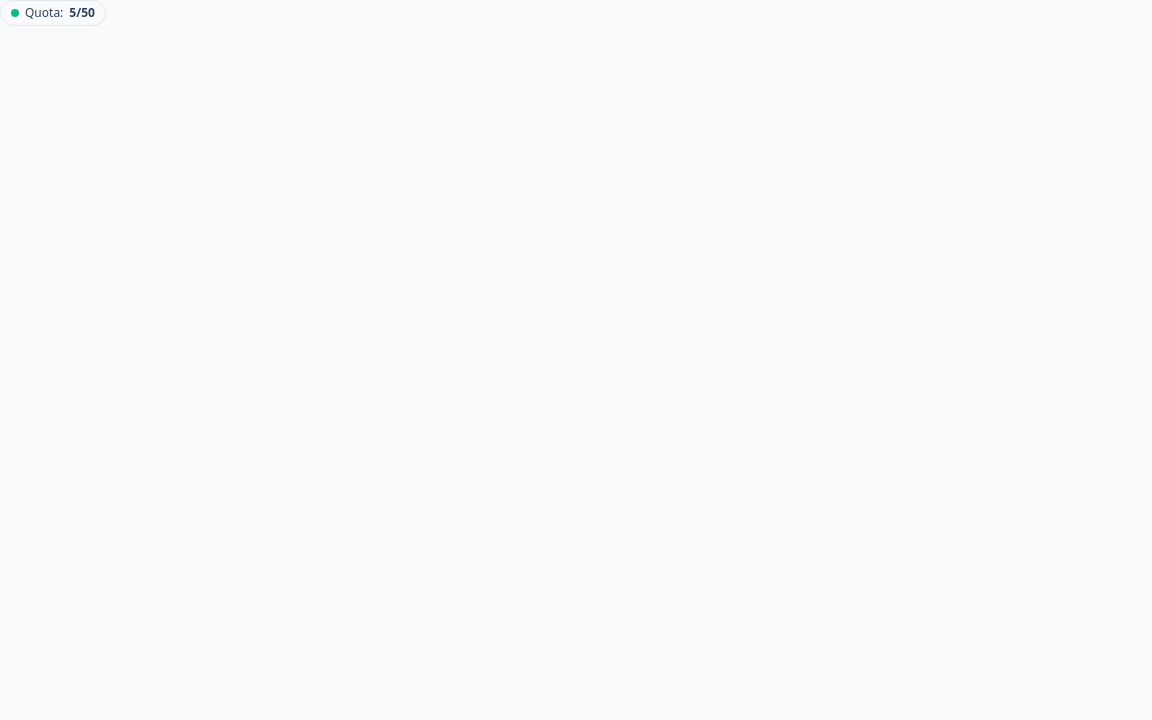
Test: QuotaMeter Component › renders compact trigger with daily usage and opens popover on click
expect the text "5/50" is shown: met, box [69, 5, 95, 21]
What coordinates should you click on to do the following:
click the button with aria-label "llm quota: 5 of 50 daily requests used"
I would click on:
 (53, 13)
Its box is [0, 0, 106, 26].
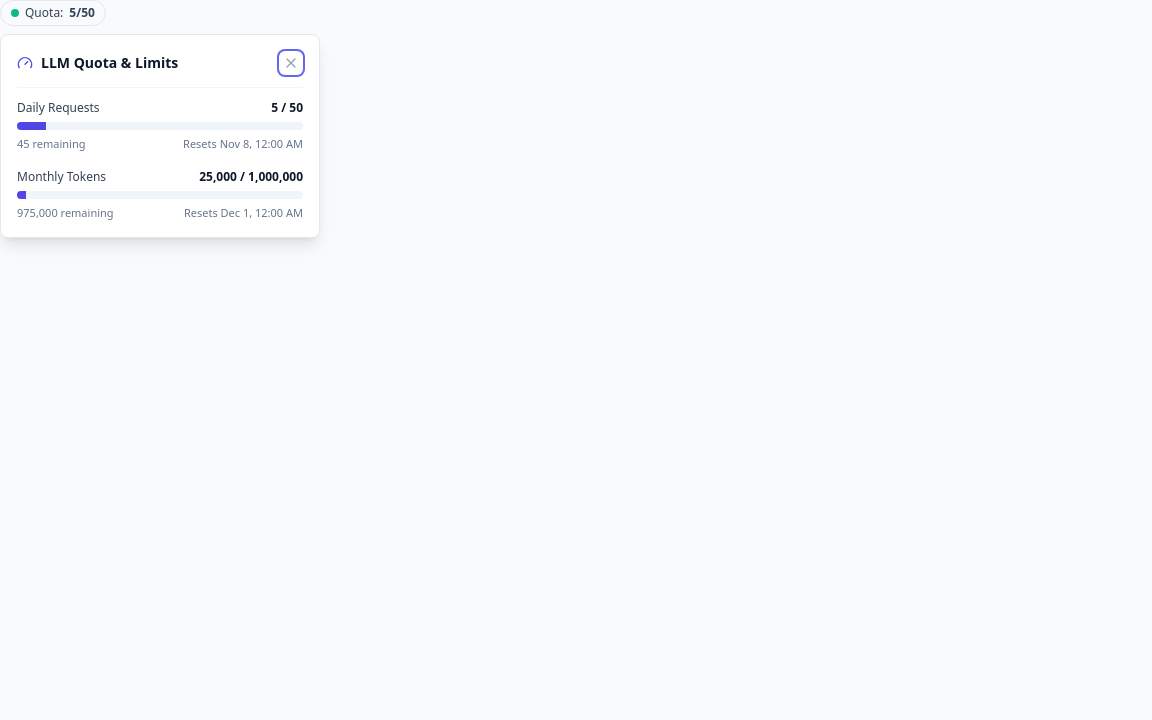
expect the heading "LLM Quota & Limits" is shown: met, box [41, 53, 178, 73]
expect the text "45 remaining" is shown: met, box [17, 136, 86, 152]
expect the text "975,000 remaining" is shown: met, box [17, 204, 114, 221]
